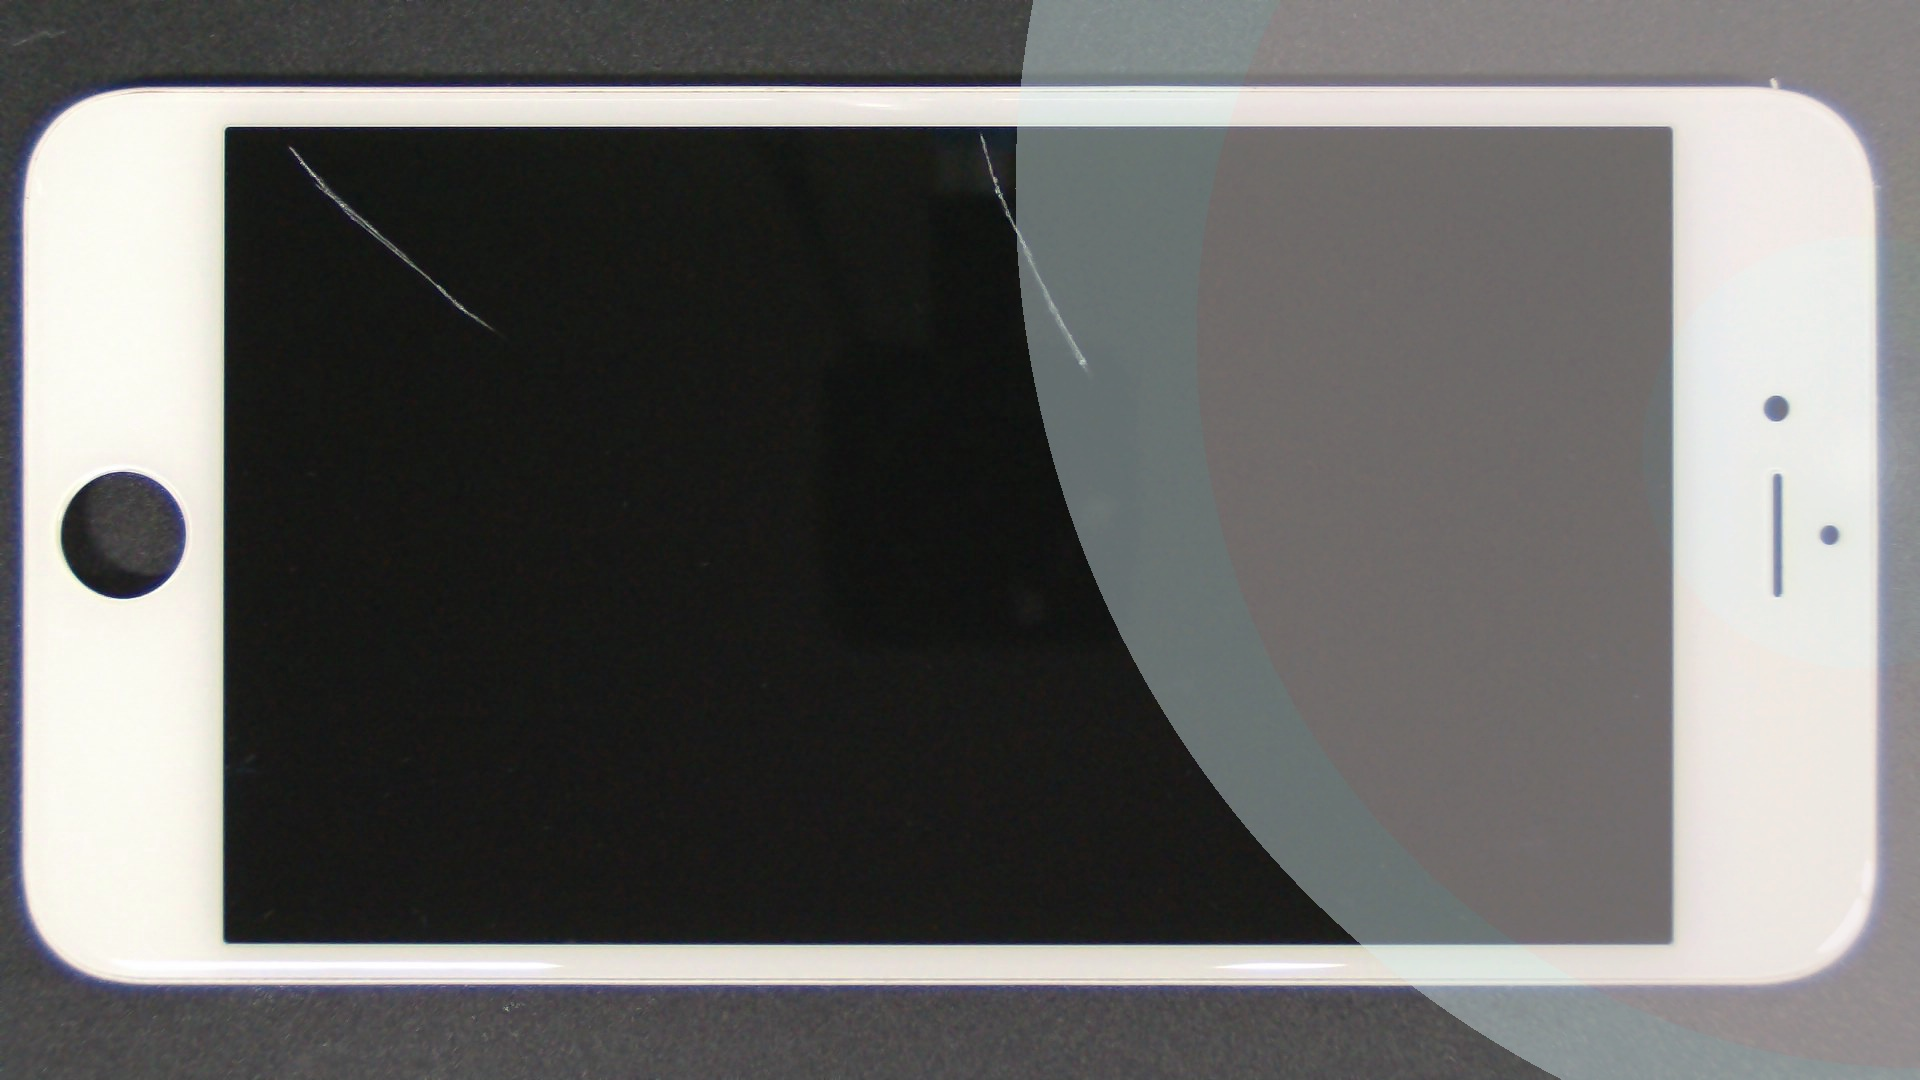oil: (492, 65, 1474, 196), (144, 71, 433, 219)
